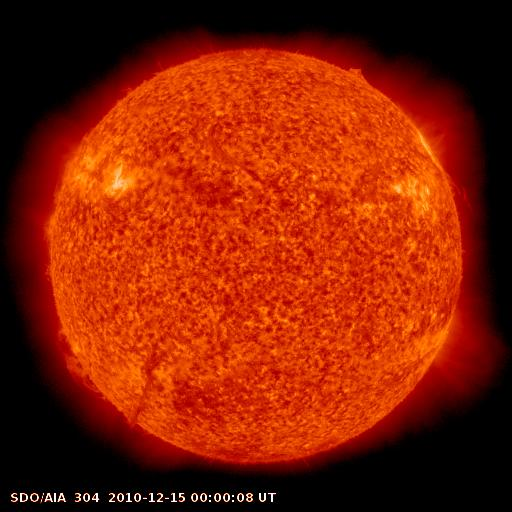prominence: (47, 321, 116, 409), (443, 167, 487, 236), (332, 55, 379, 92), (122, 408, 154, 451)
